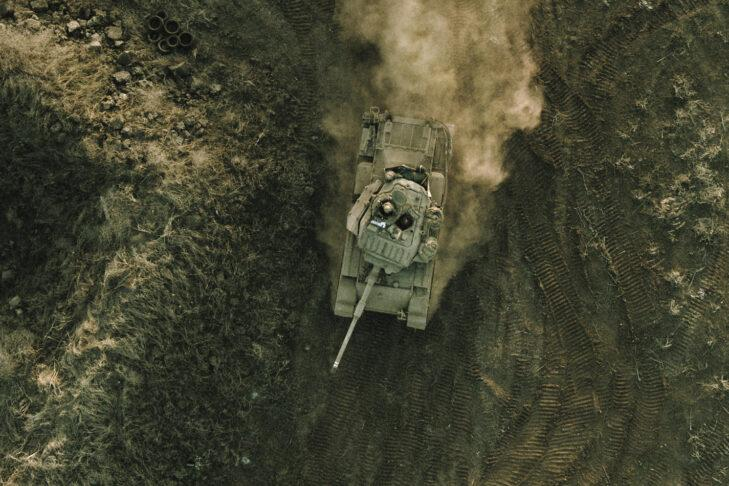tank: (318, 104, 462, 381)
